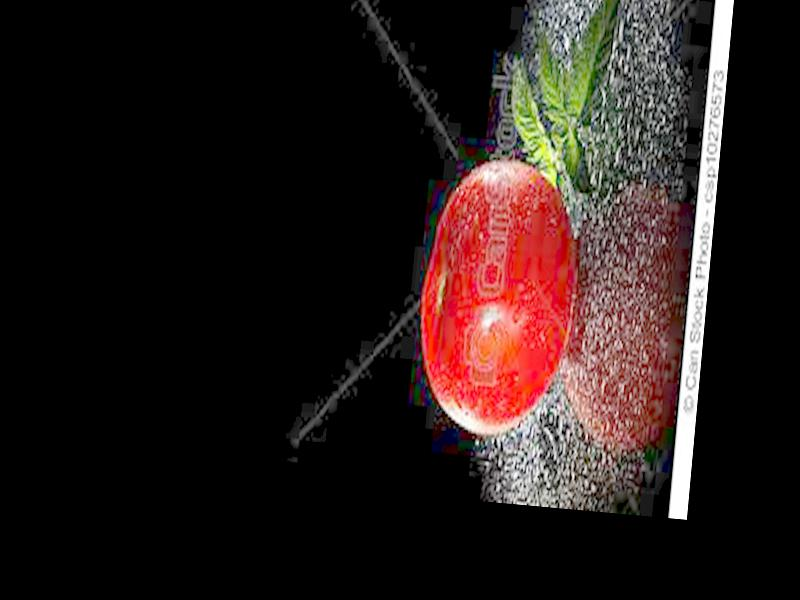Tomato: (410, 154, 585, 440)
